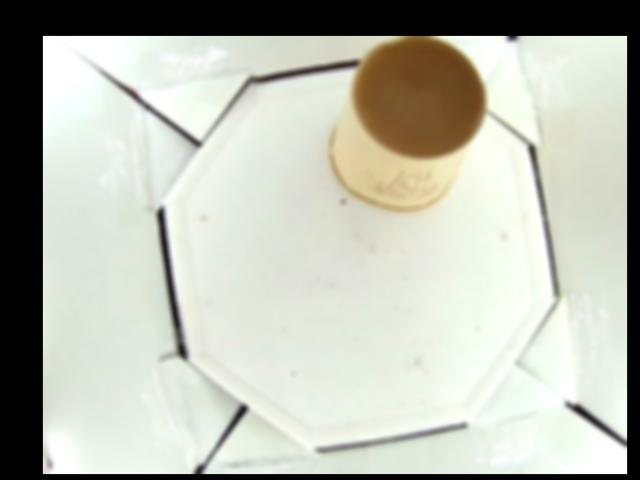Cup: (330, 38, 488, 213)
